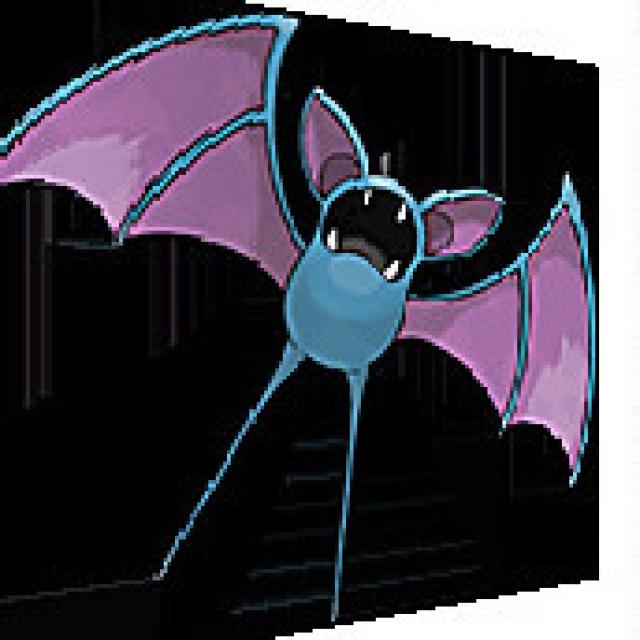Zubat: (110, 87, 567, 474)
